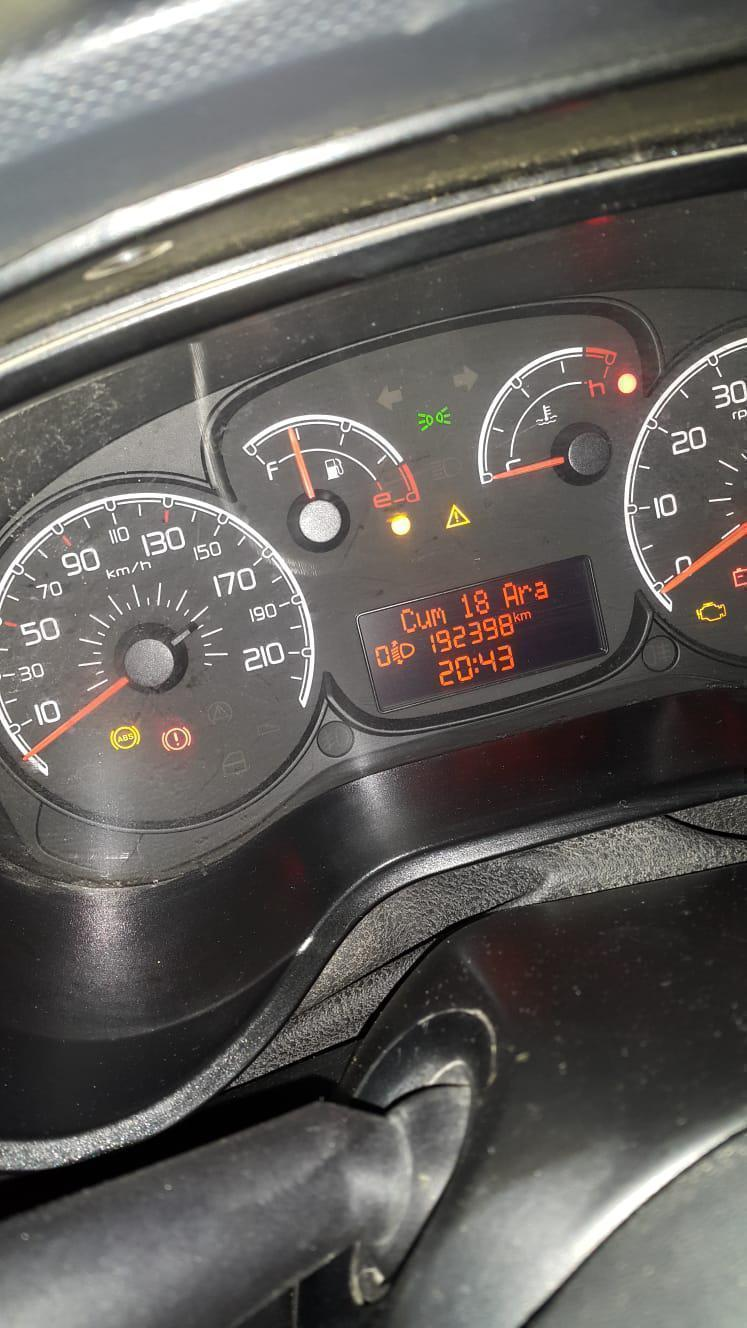0: (455, 655, 472, 681), (374, 644, 390, 667)
1: (459, 591, 473, 619), (427, 633, 436, 654)
2: (438, 659, 454, 686), (452, 624, 467, 647)
3: (497, 643, 513, 671), (468, 620, 483, 643)
4: (478, 649, 496, 672)
8: (474, 589, 489, 615), (498, 613, 514, 637)
9: (483, 616, 498, 640), (435, 629, 450, 651)
X: (400, 607, 416, 634), (502, 581, 518, 607), (429, 607, 447, 626), (533, 579, 549, 600), (416, 609, 432, 629), (518, 584, 532, 604), (472, 656, 479, 674), (521, 610, 531, 621), (512, 610, 520, 622)
odometer: (349, 550, 611, 717)
